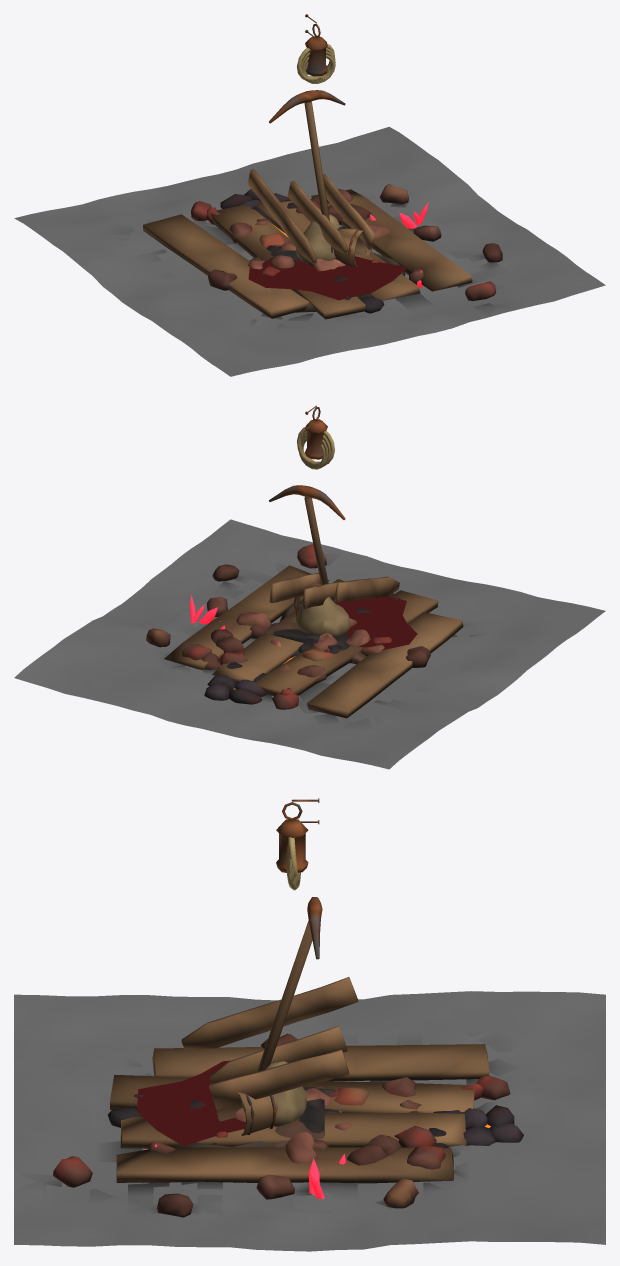
The model's file is bioma_minas_alta.glb.
3 views of the same model, one above another, from view 1: azimuth 30°, elevation 25°; view 2: azimuth 150°, elevation 25°; view 3: azimuth 270°, elevation 25° (orthographic). The views are drawn at different scales.
Parts seen in each view (by area): view 1: piso_c_malla, piso_b_malla, piso_a_malla, piso_e_malla, piso_d_malla, det_pie_tablas_malla, det_pie_pico_malla, det_pie_escombro_malla, det_pie_saco_malla, det_muro_farol_malla, det_pie_balde_malla, det_muro_cuerda_malla; view 2: piso_c_malla, piso_b_malla, piso_a_malla, piso_d_malla, piso_e_malla, det_pie_tablas_malla, det_pie_escombro_malla, det_pie_saco_malla, det_pie_pico_malla, det_muro_cuerda_malla, det_muro_farol_malla, det_pie_carbon_malla; view 3: piso_c_malla, piso_b_malla, piso_a_malla, det_pie_tablas_malla, piso_d_malla, piso_e_malla, det_pie_pico_malla, det_pie_escombro_malla, det_pie_balde_malla, det_muro_farol_malla, det_pie_saco_malla, det_pie_carbon_malla (+1 smaller).
Boxes of the visible parts, x1=… form: piso_c_malla: x1=28, y1=127, x2=602, y2=367; piso_b_malla: x1=23, y1=131, x2=596, y2=372; piso_a_malla: x1=56, y1=139, x2=563, y2=369; piso_e_malla: x1=134, y1=159, x2=548, y2=323; piso_d_malla: x1=14, y1=126, x2=605, y2=376; det_pie_tablas_malla: x1=247, y1=169, x2=374, y2=263; det_pie_pico_malla: x1=269, y1=90, x2=345, y2=220; det_pie_escombro_malla: x1=248, y1=224, x2=390, y2=271; det_pie_saco_malla: x1=295, y1=214, x2=355, y2=263; det_muro_farol_malla: x1=305, y1=14, x2=327, y2=76; det_pie_balde_malla: x1=331, y1=225, x2=371, y2=267; det_muro_cuerda_malla: x1=297, y1=30, x2=335, y2=83; piso_c_malla: x1=17, y1=520, x2=589, y2=763; piso_b_malla: x1=23, y1=526, x2=596, y2=765; piso_a_malla: x1=55, y1=532, x2=588, y2=747; piso_d_malla: x1=14, y1=519, x2=605, y2=769; piso_e_malla: x1=127, y1=554, x2=459, y2=710; det_pie_tablas_malla: x1=269, y1=573, x2=399, y2=608; det_pie_escombro_malla: x1=236, y1=612, x2=384, y2=664; det_pie_saco_malla: x1=295, y1=597, x2=350, y2=636; det_pie_pico_malla: x1=269, y1=485, x2=345, y2=585; det_muro_cuerda_malla: x1=297, y1=423, x2=334, y2=469; det_muro_farol_malla: x1=305, y1=405, x2=327, y2=459; det_pie_carbon_malla: x1=272, y1=629, x2=351, y2=663; piso_c_malla: x1=14, y1=994, x2=605, y2=1246; piso_b_malla: x1=14, y1=991, x2=605, y2=1251; piso_a_malla: x1=14, y1=998, x2=605, y2=1250; det_pie_tablas_malla: x1=181, y1=977, x2=358, y2=1109; piso_d_malla: x1=14, y1=992, x2=605, y2=1245; piso_e_malla: x1=95, y1=1017, x2=604, y2=1235; det_pie_pico_malla: x1=257, y1=897, x2=322, y2=1072; det_pie_escombro_malla: x1=235, y1=1086, x2=331, y2=1163; det_pie_balde_malla: x1=216, y1=1092, x2=278, y2=1135; det_muro_farol_malla: x1=276, y1=798, x2=319, y2=872; det_pie_saco_malla: x1=242, y1=1061, x2=306, y2=1126; det_pie_carbon_malla: x1=299, y1=1087, x2=324, y2=1135.
Size of the model in its own units: 2 by 1.27 by 2.
